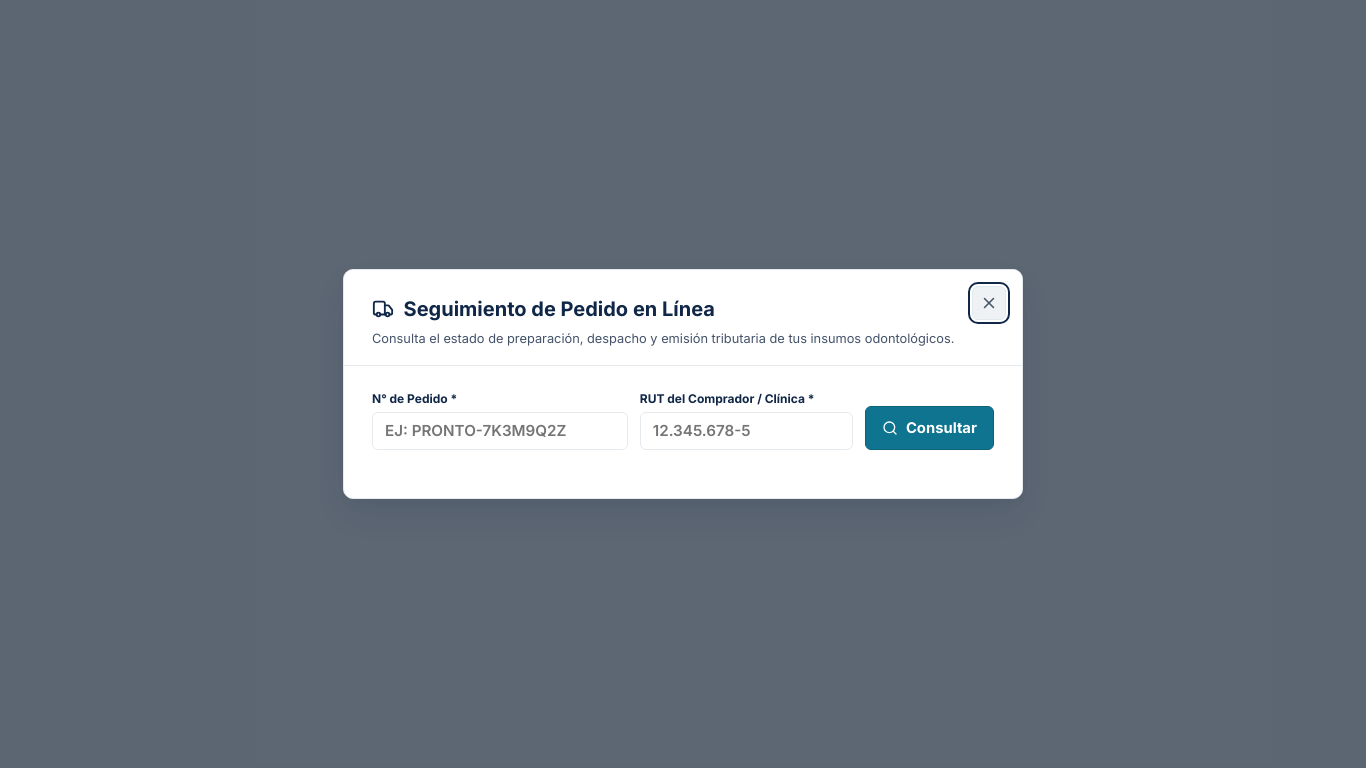
Test: OrderTrackingModal Component (src/components/OrderTrackingModal) › should show error when submitting with invalid RUT
Type "PRONTO-123456" into the field labelled "N° de Pedido *". click: (500, 431)
box: [372, 412, 628, 450]
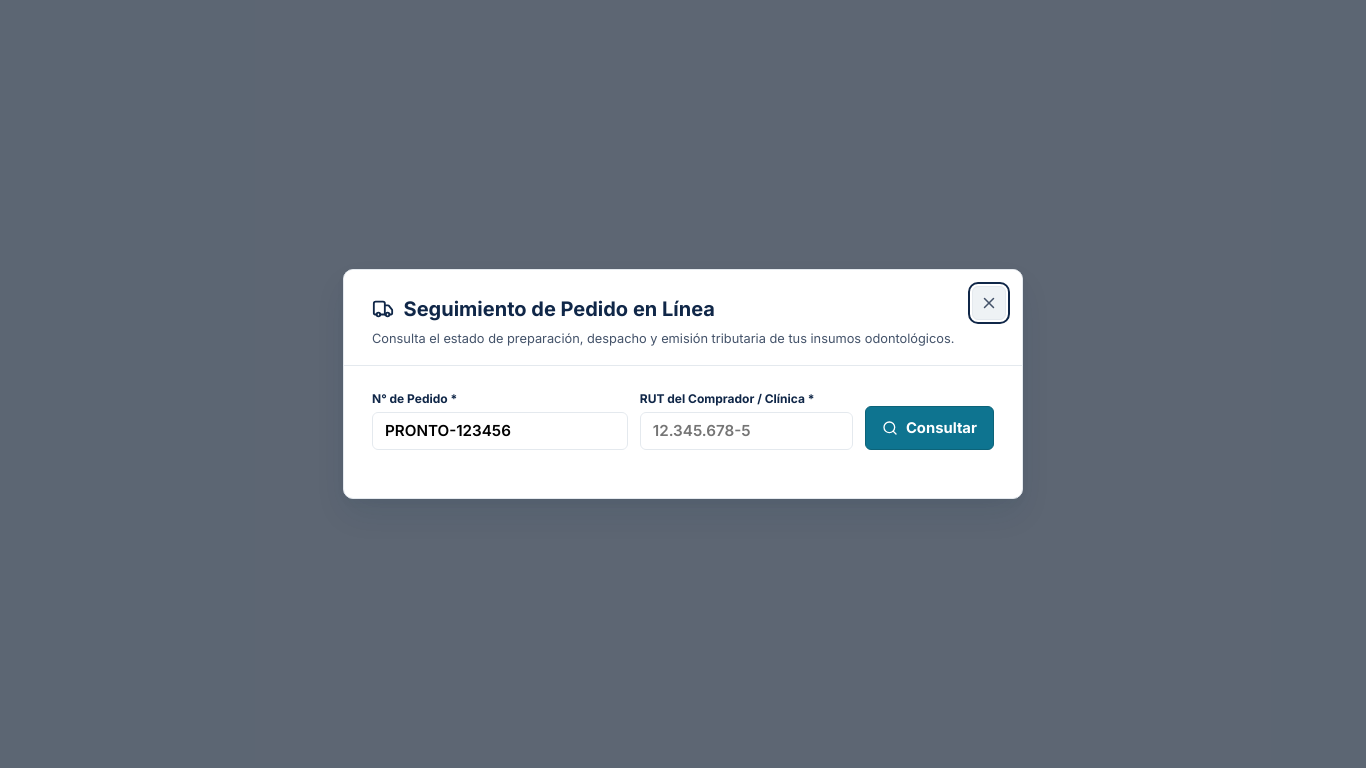
Type "12.345.678-0" into the field labelled "RUT del Comprador / Clínica *". click: (746, 431)
box: [640, 412, 853, 450]
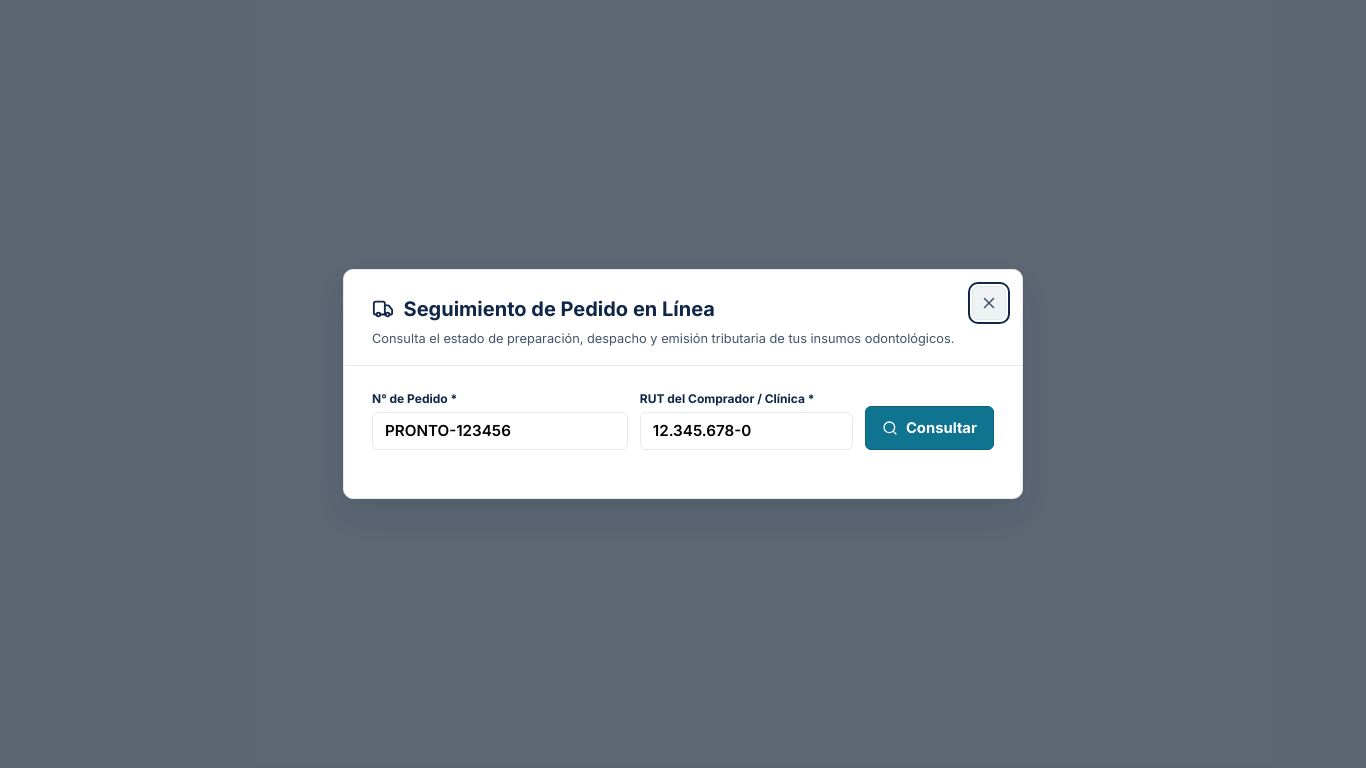
Click the button "Consultar". click: click(929, 428)
box: [865, 406, 994, 450]
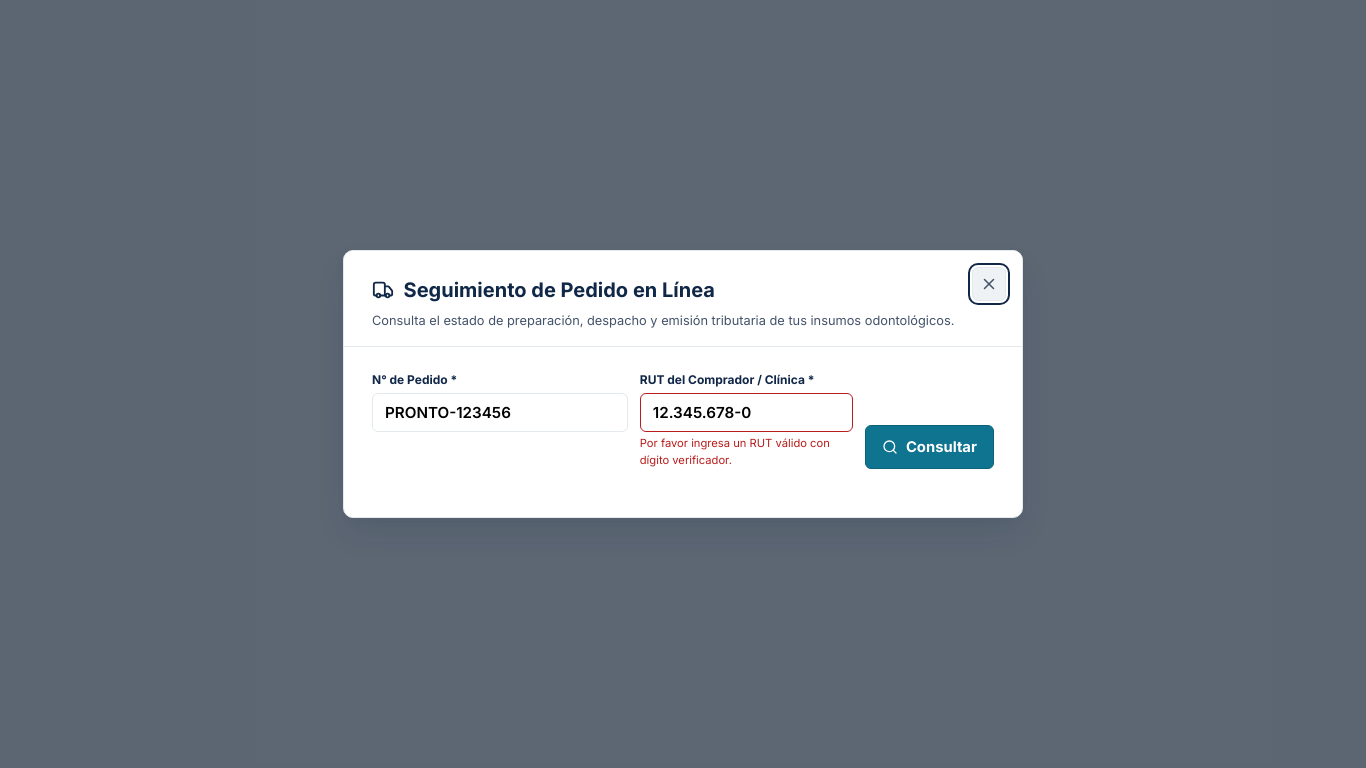
Now the text "Por favor ingresa un RUT válido con dígito verificador." is shown, box [640, 435, 853, 469]
